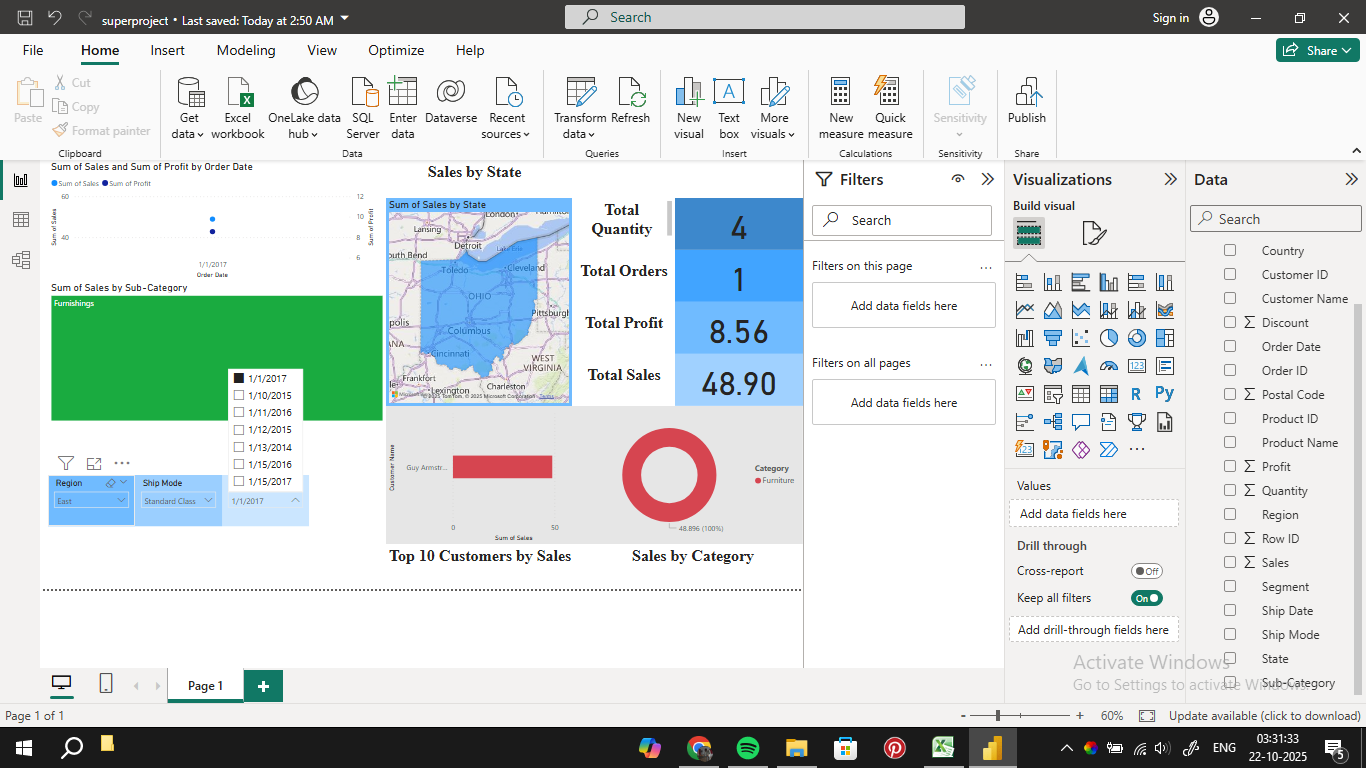

This screenshot's page, from the dashboard's own definition file:
{"tool":"powerbi","page":{"name":"Page 1","canvas":[1280,720],"ordinal":0},"visuals":[{"type":"card","fields":{"Values":["Sample - Superstore.Sales"]},"box":[1065.3,325.5,214.7,87.2],"z":0},{"type":"card","fields":{"Values":["Sample - Superstore.Profit"]},"box":[1065.3,238.2,214.7,87.2],"z":1000},{"type":"card","fields":{"Values":["Sample - Superstore.Order ID"]},"box":[1065.3,151,214.7,87.2],"z":2000},{"type":"card","fields":{"Values":["Sample - Superstore.Quantity"]},"box":[1065.3,63.7,214.7,87.2],"z":3000},{"type":"textbox","box":[894.2,340.6,171.1,55.4],"z":4000},{"type":"textbox","box":[894.2,253.3,171.1,55.4],"z":5000},{"type":"textbox","box":[894.2,166.1,171.1,55.4],"z":6000},{"type":"textbox","box":[894.2,63.7,171.1,70.5],"z":7000},{"type":"filledMap","fields":{"Category":["Sample - Superstore.State"]},"box":[580.4,63.7,312,348.9],"z":8000},{"type":"textbox","box":[565.3,0,327.1,55.4],"z":8001},{"type":"donutChart","fields":{"Category":["Sample - Superstore.Category"],"Y":["Sample - Superstore.Sales"]},"box":[907.6,412.7,372.4,231.5],"z":8002},{"type":"textbox","box":[910.9,644.2,369.1,55.4],"z":8003},{"type":"barChart","fields":{"Category":["Sample - Superstore.Customer Name"],"Y":["Sample - Superstore.Sales"]},"box":[580.4,412.7,328.8,231.5],"z":8004},{"type":"textbox","box":[580.4,644.2,348.9,43.6],"z":8005},{"type":"areaChart","fields":{"Category":["Sample - Superstore.Order Date"],"Y":["Sample - Superstore.Sales"],"Y2":["Sample - Superstore.Profit"]},"box":[13.4,0,551.9,203],"z":8006},{"type":"treemap","fields":{"Group":["Sample - Superstore.Sub-Category"],"Values":["Sample - Superstore.Sales"]},"box":[13.4,203,567,239.9],"z":8007},{"type":"slicer","fields":{"Values":["Sample - Superstore.Region"]},"box":[13.4,528.4,146,85.6],"z":8008},{"type":"slicer","fields":{"Values":["Sample - Superstore.Ship Mode"]},"box":[159.4,528.4,146,85.6],"z":8009},{"type":"slicer","fields":{"Values":["Sample - Superstore.Order Date"]},"box":[305.3,528.4,146,85.6],"z":8010}]}

Visuals, with their boxes on the page's 1280x720 design canvas (x1, y1, x2, y2). These are canvas units, not pixel positions in the 1366x768 screenshot, which may show the page scaled, cropped or inside an application window:
card - Sample - Superstore.Sales: box(1065, 326, 1280, 413)
card - Sample - Superstore.Profit: box(1065, 238, 1280, 325)
card - Sample - Superstore.Order ID: box(1065, 151, 1280, 238)
card - Sample - Superstore.Quantity: box(1065, 64, 1280, 151)
textbox: box(894, 341, 1065, 396)
textbox: box(894, 253, 1065, 309)
textbox: box(894, 166, 1065, 222)
textbox: box(894, 64, 1065, 134)
filledMap - Sample - Superstore.State: box(580, 64, 892, 413)
textbox: box(565, 0, 892, 55)
donutChart - Sample - Superstore.Category x Sample - Superstore.Sales: box(908, 413, 1280, 644)
textbox: box(911, 644, 1280, 700)
barChart - Sample - Superstore.Customer Name x Sample - Superstore.Sales: box(580, 413, 909, 644)
textbox: box(580, 644, 929, 688)
areaChart - Sample - Superstore.Order Date x Sample - Superstore.Sales: box(13, 0, 565, 203)
treemap - Sample - Superstore.Sub-Category x Sample - Superstore.Sales: box(13, 203, 580, 443)
slicer - Sample - Superstore.Region: box(13, 528, 159, 614)
slicer - Sample - Superstore.Ship Mode: box(159, 528, 305, 614)
slicer - Sample - Superstore.Order Date: box(305, 528, 451, 614)
